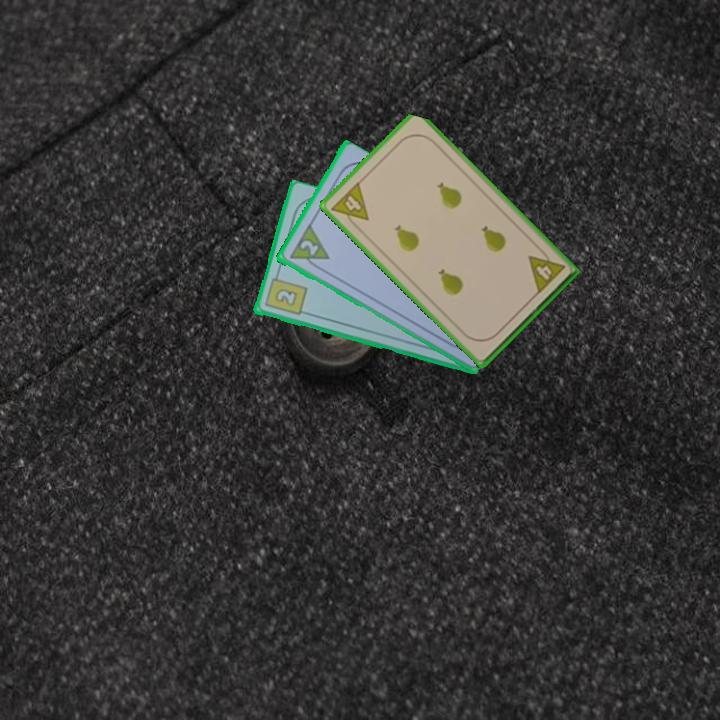2b: (261, 269, 309, 319)
2p: (285, 222, 332, 274)
4p: (328, 178, 372, 233), (523, 244, 568, 297)
